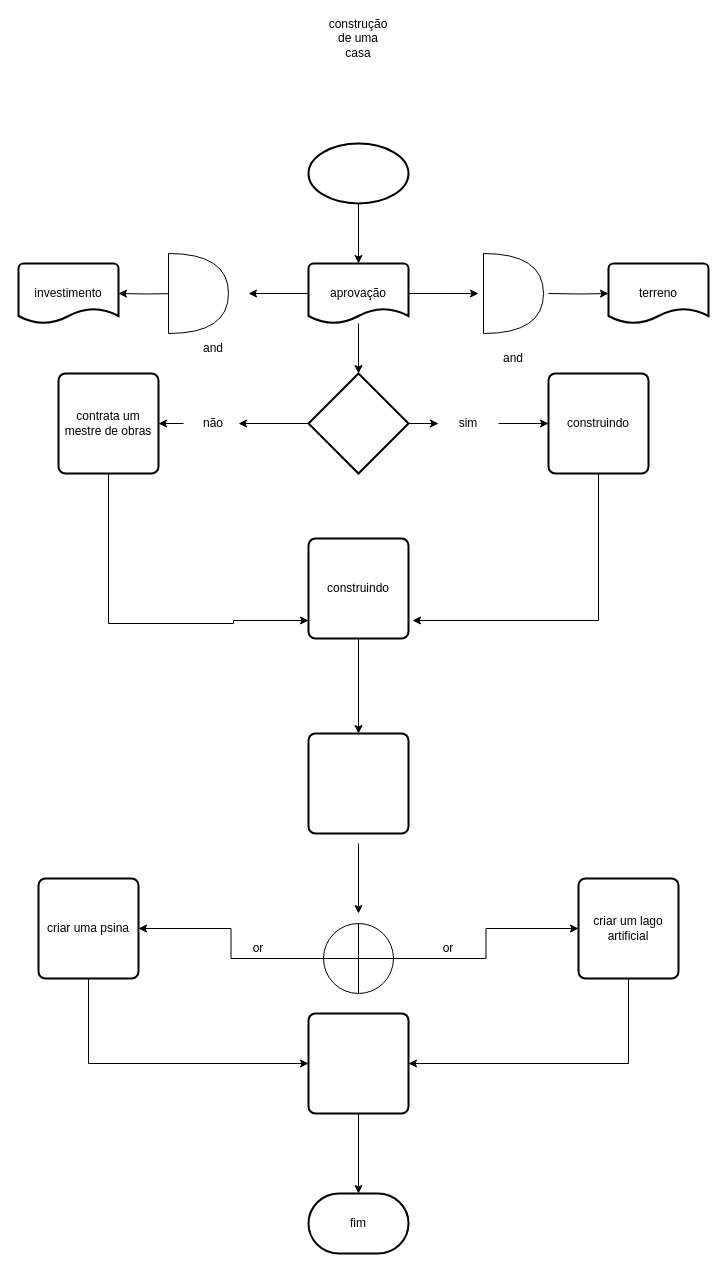
Some shapes in this 726 by 1272 pixel diagram are drawn without their labels. The centre of each missing label's shape, as x and y in pixels:
"continuar construindo" goes at pixel 358 1063.
"contratar uma construtora?" goes at pixel 358 423.
"start" goes at pixel 358 173.
"uma forma de refresco será criada" goes at pixel 358 783.
